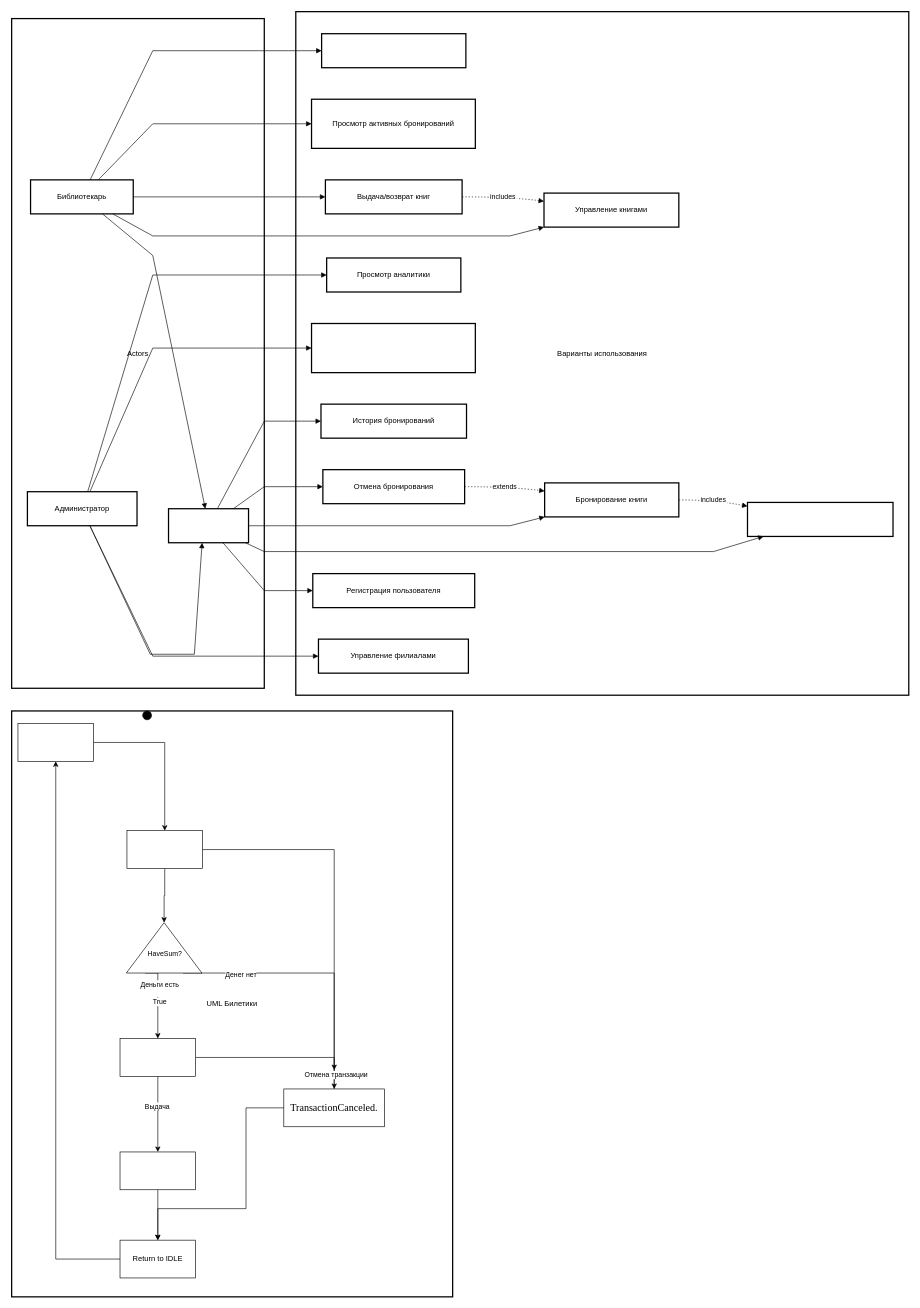
Image size: 920x1308. Some labels were removed from this diagram. Each missing label, with the centre of its shape:
"IDLE" goes at (55,742).
"MoneyReceived" goes at (157,1057).
"TicketDispensed" goes at (157,1170).
"WaitingForMoneY" goes at (164,849).
"Просмотр и поиск книг" goes at (820,519).
"Управление каталогом" goes at (393,50).
"Управление учетными записями" goes at (393,348).
"Читатель" goes at (208,525).
